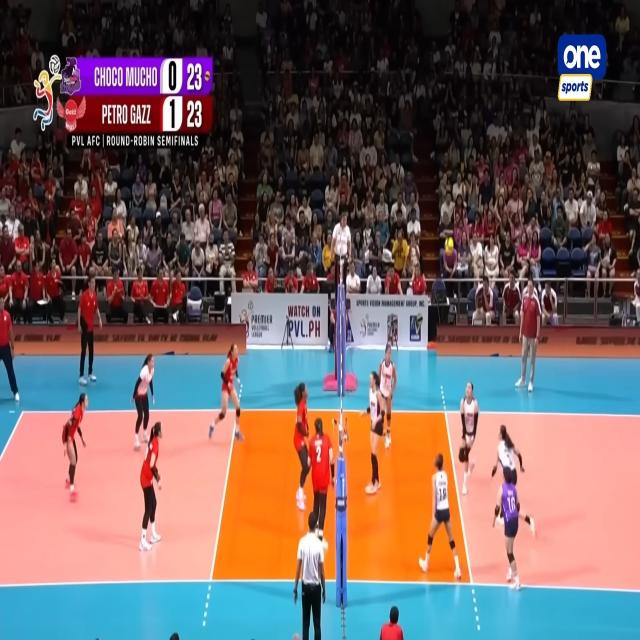Volleyball-Ball: (444, 237, 454, 256)
